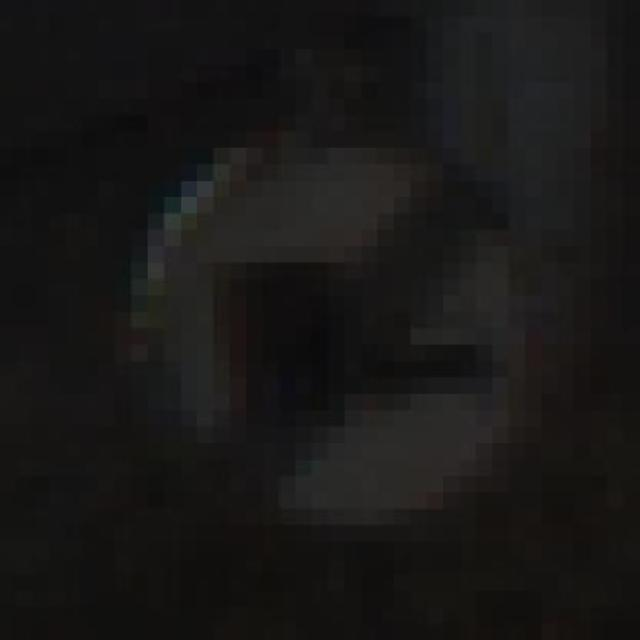Overtaking by trucks is prohibited: (32, 81, 608, 558)
